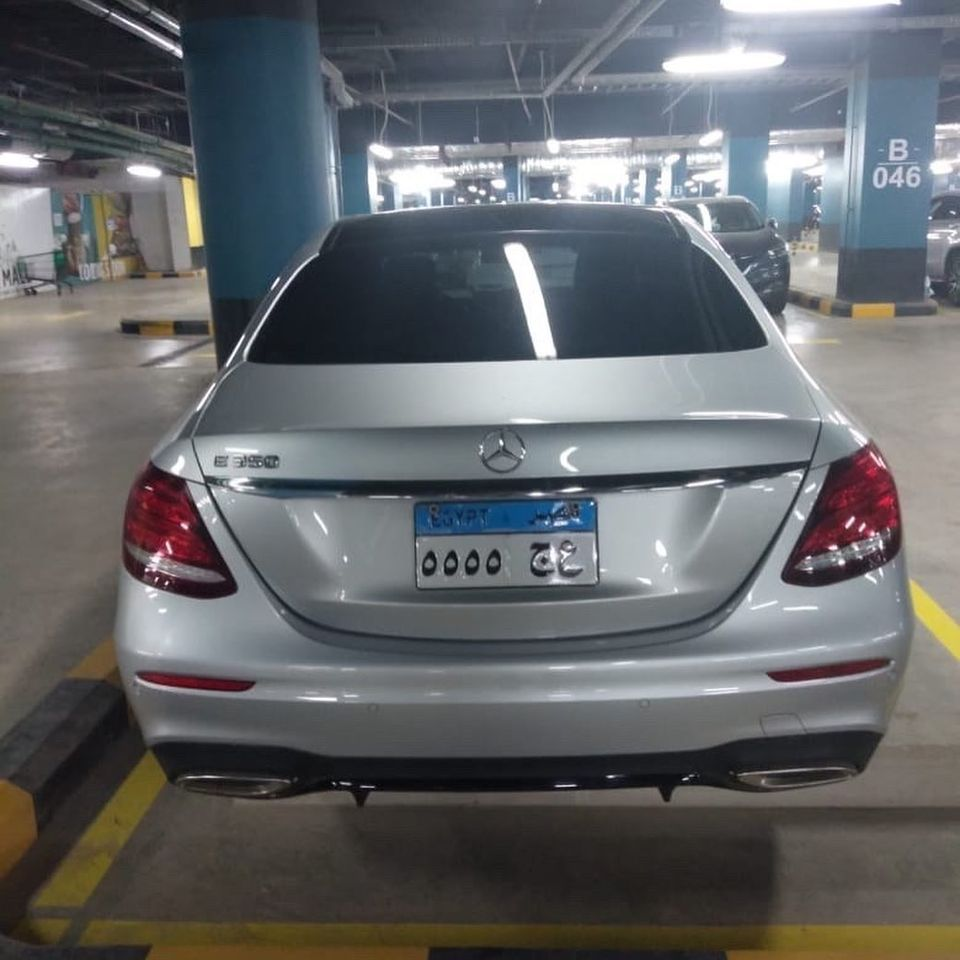carpl: (405, 519, 614, 590)
